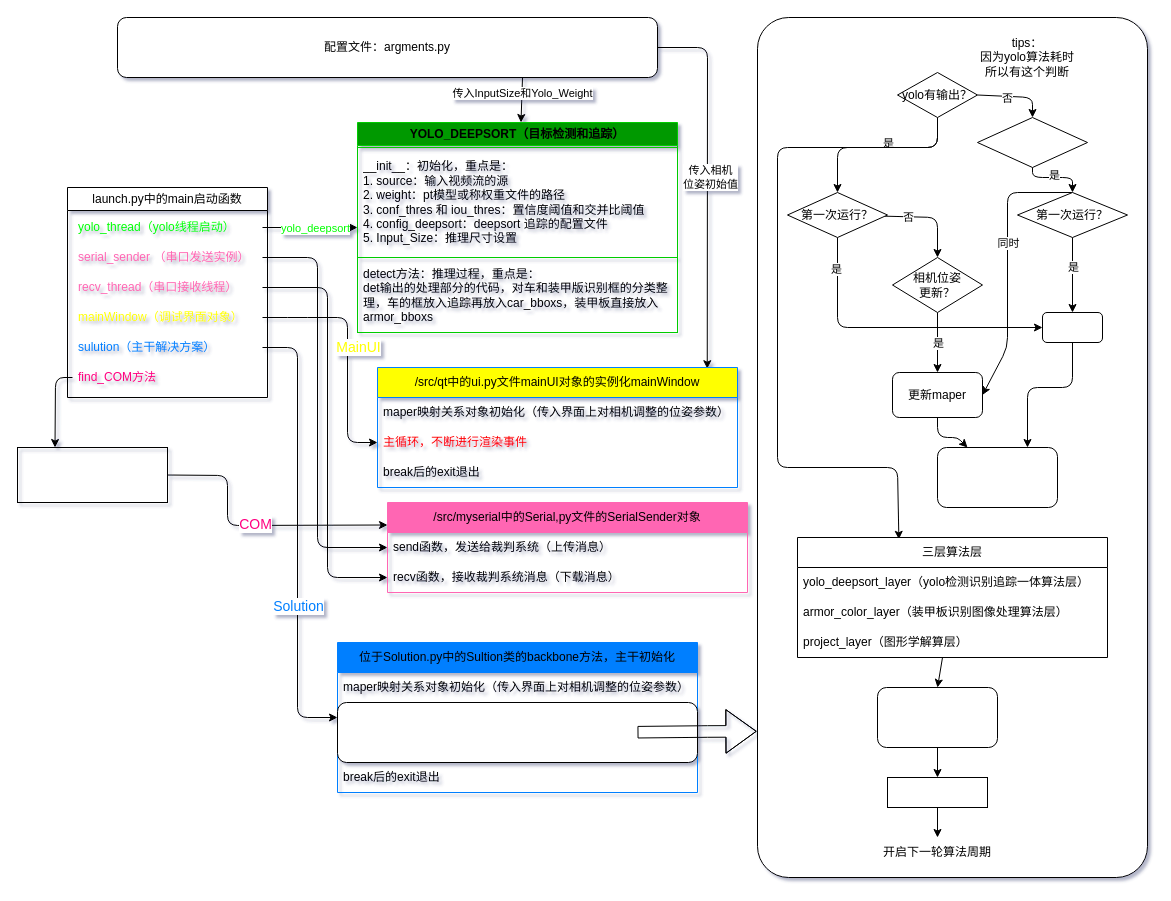
The diagram is 1171 pixels wide and 901 high, and some of its shapes have lost their labels. The shapes that lost their labels are listed below. From the top down, each one's centre as x and y in pixels, then its label:
[1032,142]: yolo有原始画面？
[1072,327]: 获取映射关系
[92,474]: 查找USB转TTL串口是否连接或正常工作，找到的话则确定串口号并返回
[997,477]: 传递到调参界面 监视器
[517,732]: 主循环（包含大部分实时逻辑判断）：
[937,717]: 所有信息解算完毕，串口通信发送
[937,792]: 帧率计算器
